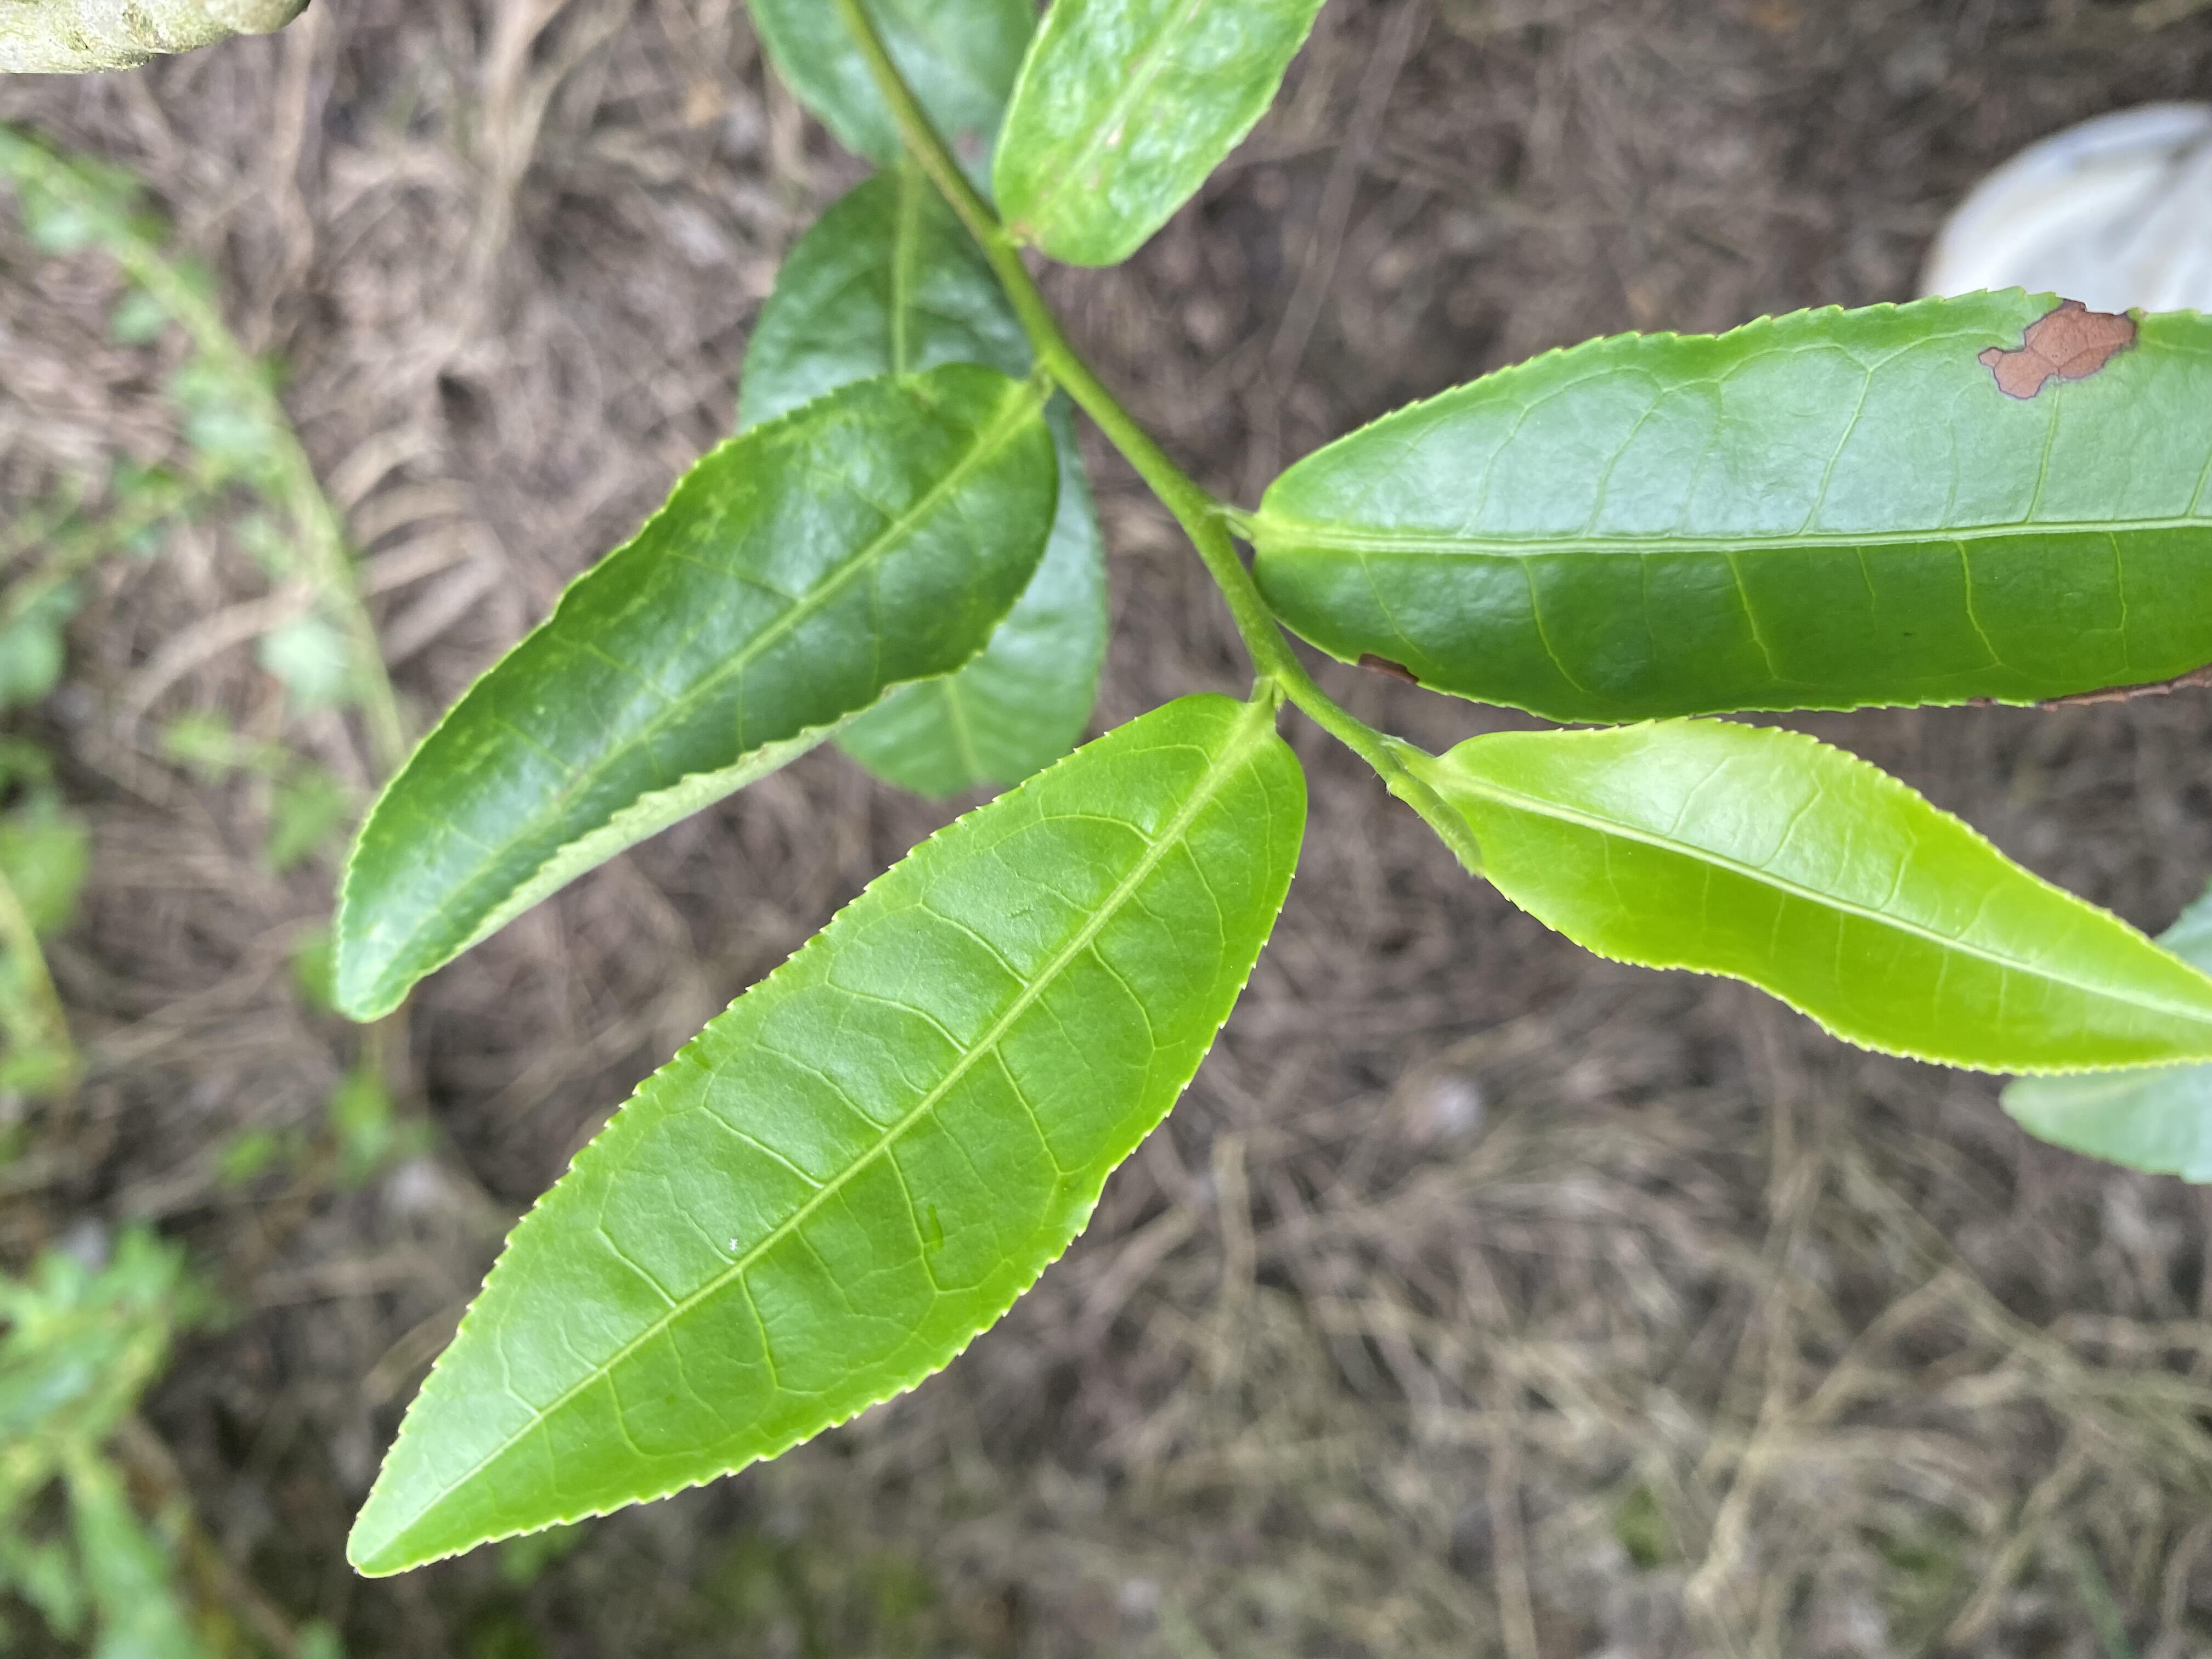healthy: (341, 692, 1310, 1581), (326, 359, 1062, 1028), (1425, 714, 2210, 1072)
tanju_high: (1252, 284, 2212, 727)
